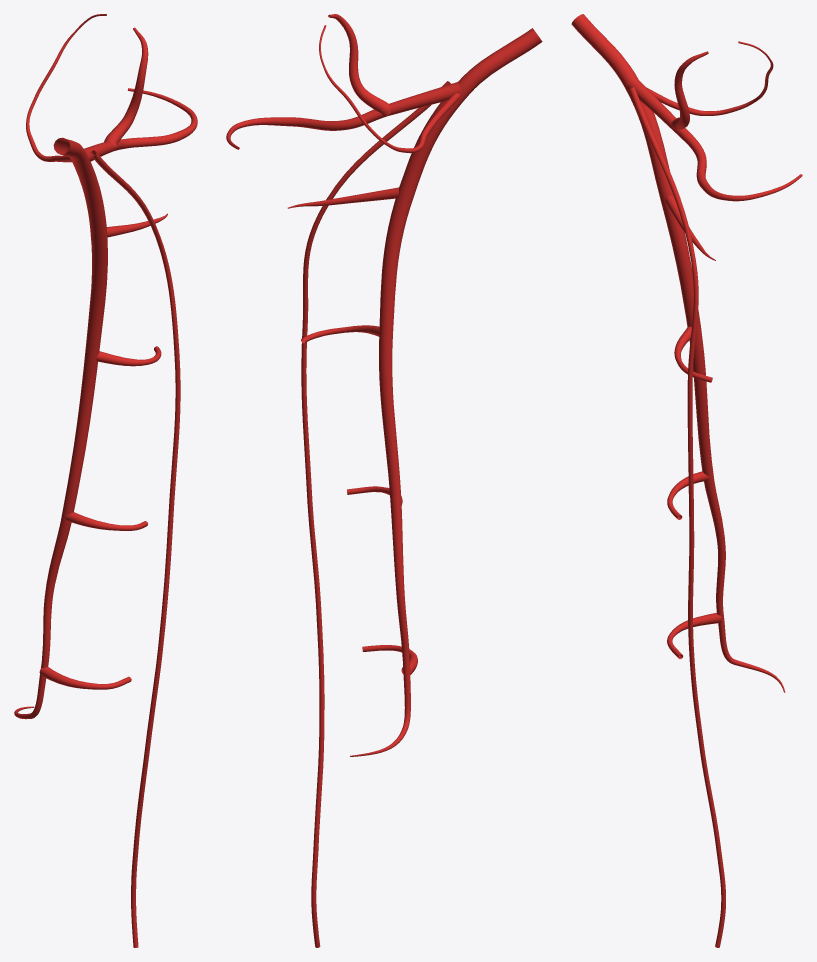
Rendered from circulatorio-deep-femoral-artery-l.glb.
3 views of the same model, side by side, from view 1: azimuth 30°, elevation 25°; view 2: azimuth 150°, elevation 25°; view 3: azimuth 270°, elevation 25° (orthographic). The views are drawn at different scales.
Visible parts, largest first — view 1: Deep femoral artery.l, Descending branch of lateral circumflex femoral artery.l, Lateral circumflex femoral artery.l, Perforating femoral arteries.l, Medial circumflex femoral artery.l; view 2: Deep femoral artery.l, Descending branch of lateral circumflex femoral artery.l, Lateral circumflex femoral artery.l, Perforating femoral arteries.l, Medial circumflex femoral artery.l; view 3: Deep femoral artery.l, Descending branch of lateral circumflex femoral artery.l, Lateral circumflex femoral artery.l, Perforating femoral arteries.l, Medial circumflex femoral artery.l.
Part boxes in pixels (left/top/right/bottom): Deep femoral artery.l: left=14, top=137, right=107, bottom=719; Descending branch of lateral circumflex femoral artery.l: left=90, top=150, right=180, bottom=947; Lateral circumflex femoral artery.l: left=84, top=27, right=197, bottom=161; Perforating femoral arteries.l: left=39, top=213, right=167, bottom=689; Medial circumflex femoral artery.l: left=26, top=14, right=106, bottom=162; Deep femoral artery.l: left=350, top=28, right=542, bottom=756; Descending branch of lateral circumflex femoral artery.l: left=301, top=81, right=450, bottom=947; Lateral circumflex femoral artery.l: left=226, top=14, right=463, bottom=149; Perforating femoral arteries.l: left=287, top=187, right=417, bottom=674; Medial circumflex femoral artery.l: left=319, top=25, right=459, bottom=153; Deep femoral artery.l: left=571, top=14, right=785, bottom=692; Descending branch of lateral circumflex femoral artery.l: left=629, top=87, right=725, bottom=947; Lateral circumflex femoral artery.l: left=627, top=51, right=802, bottom=201; Perforating femoral arteries.l: left=665, top=195, right=721, bottom=658; Medial circumflex femoral artery.l: left=646, top=41, right=773, bottom=115.
Bounding box in the file's own units: 0.0907 × 0.3628 × 0.0847.
